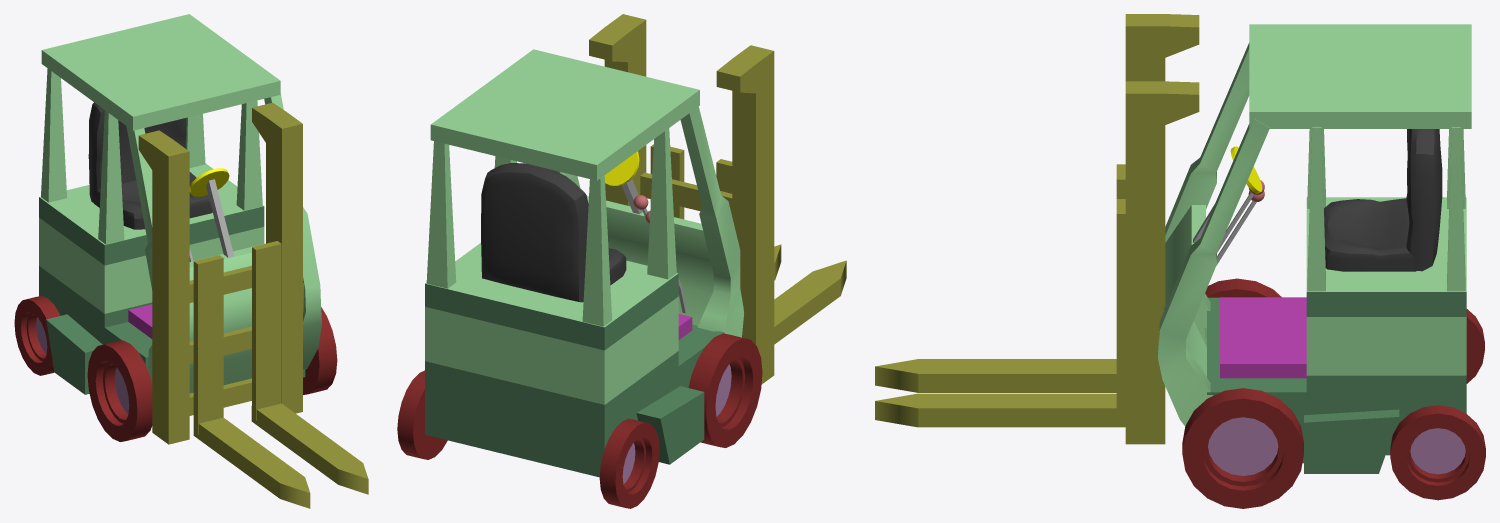
The model's file is Forklift.fbx.
3 views of the same model, side by side, from view 1: azimuth 30°, elevation 25°; view 2: azimuth 150°, elevation 25°; view 3: azimuth 270°, elevation 25° (orthographic). The views are drawn at different scales.
Visible parts, largest first — view 1: pCube31, pCube1, pCube6, polySurface1, pCube30, pCube15, pCube25, pCube23, pCube24, polySurface2, pCube5, pCube9 (+7 smaller); view 2: pCube6, pCube31, pCube1, pCube30, pCube22, polySurface1, pCube15, polySurface2, pCube23, pCube24, pCube25, pCube11 (+3 smaller); view 3: pCube31, pCube1, pCube6, pCylinder1, pCube30, pCube5, pCylinder2, pCube3, pCube10, pCube22, pCube2, pCube11 (+4 smaller).
Boxes of the visible parts, left/top/right/bottom form: pCube31: left=138, top=102, right=368, bottom=508; pCube1: left=41, top=14, right=280, bottom=130; pCube6: left=39, top=163, right=264, bottom=341; polySurface1: left=87, top=340, right=152, bottom=441; pCube30: left=88, top=102, right=212, bottom=229; pCube15: left=189, top=243, right=303, bottom=393; pCube25: left=98, top=110, right=124, bottom=244; pCube23: left=46, top=314, right=102, bottom=394; pCube24: left=41, top=68, right=66, bottom=202; polySurface2: left=14, top=296, right=60, bottom=375; pCube5: left=264, top=94, right=321, bottom=369; pCube9: left=236, top=100, right=262, bottom=210; pCube6: left=425, top=243, right=678, bottom=477; pCube31: left=589, top=14, right=846, bottom=384; pCube1: left=430, top=49, right=699, bottom=180; pCube30: left=481, top=163, right=626, bottom=302; pCube22: left=680, top=106, right=744, bottom=337; polySurface1: left=688, top=333, right=762, bottom=447; pCube15: left=587, top=196, right=713, bottom=325; polySurface2: left=599, top=418, right=659, bottom=508; pCube23: left=636, top=386, right=704, bottom=464; pCube24: left=582, top=175, right=611, bottom=326; pCube25: left=647, top=128, right=676, bottom=279; pCube11: left=426, top=141, right=456, bottom=288; pCube31: left=875, top=14, right=1199, bottom=444; pCube1: left=1249, top=24, right=1471, bottom=128; pCube6: left=1306, top=197, right=1466, bottom=455; pCylinder1: left=1182, top=388, right=1303, bottom=508; pCube30: left=1324, top=129, right=1442, bottom=271; pCube5: left=1158, top=119, right=1269, bottom=426; pCylinder2: left=1390, top=405, right=1485, bottom=500; pCube3: left=1220, top=297, right=1306, bottom=378; pCube10: left=1304, top=409, right=1399, bottom=473; pCube22: left=1165, top=43, right=1249, bottom=346; pCube2: left=1207, top=297, right=1349, bottom=463; pCube11: left=1447, top=127, right=1465, bottom=291.
Size of the model in its own units: 4.68 by 6.91 by 10.04.
